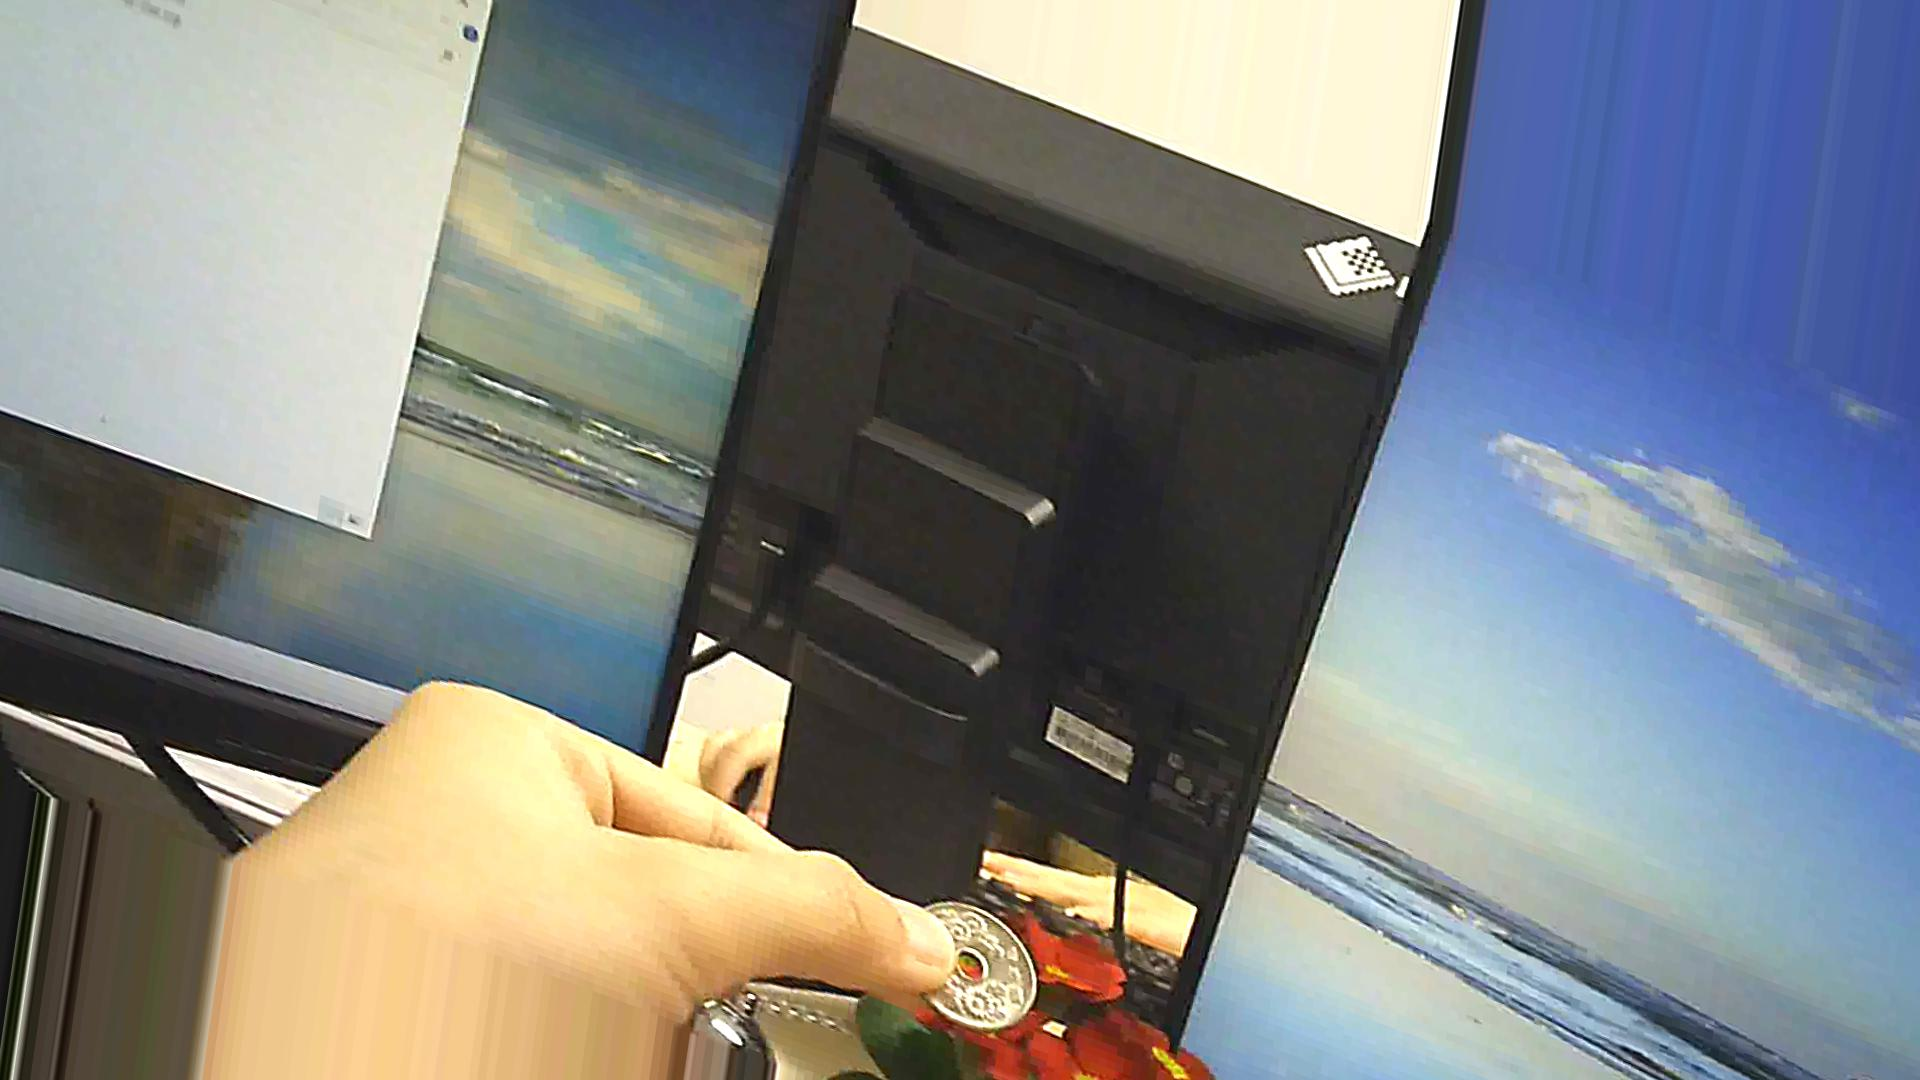50 Yen: (893, 891, 1052, 1039)
